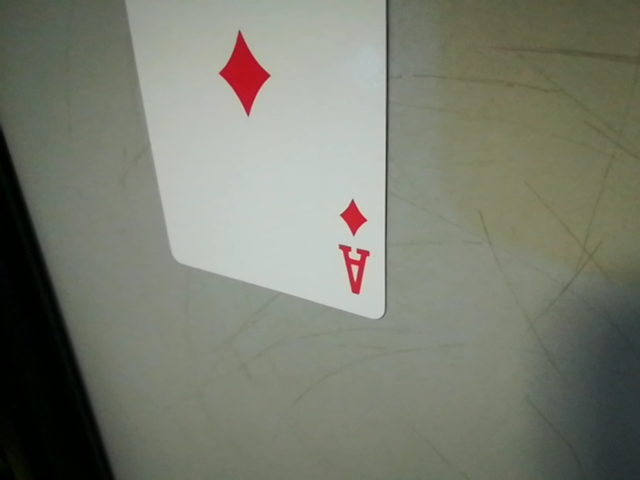fk a: (324, 191, 381, 309)
